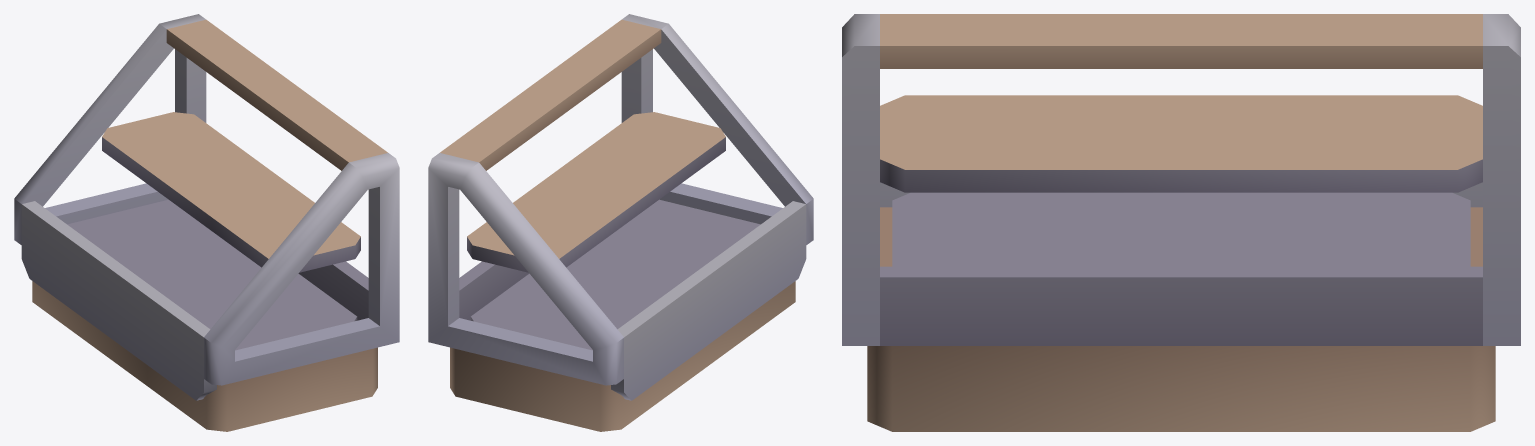
Rendered from counter-display.glb.
3 views of the same model, side by side, from view 1: azimuth 30°, elevation 25°; view 2: azimuth 150°, elevation 25°; view 3: azimuth 270°, elevation 25° (orthographic). The views are drawn at different scales.
Visible parts, largest first — view 1: counter-display; view 2: counter-display; view 3: counter-display.
Boxes of the visible parts, x1=… form: counter-display: x1=14, y1=14, x2=399, y2=431; counter-display: x1=428, y1=14, x2=813, y2=431; counter-display: x1=842, y1=14, x2=1520, y2=431.
Bounding box in the file's own units: 0.7 × 0.856 × 1.35.
